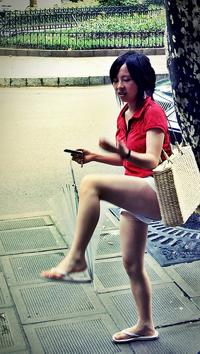person: (41, 49, 173, 346)
